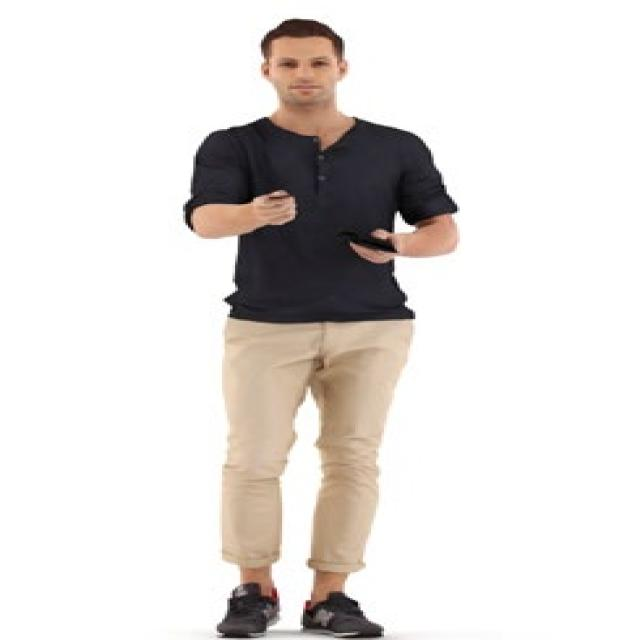standing: (175, 12, 466, 640)
